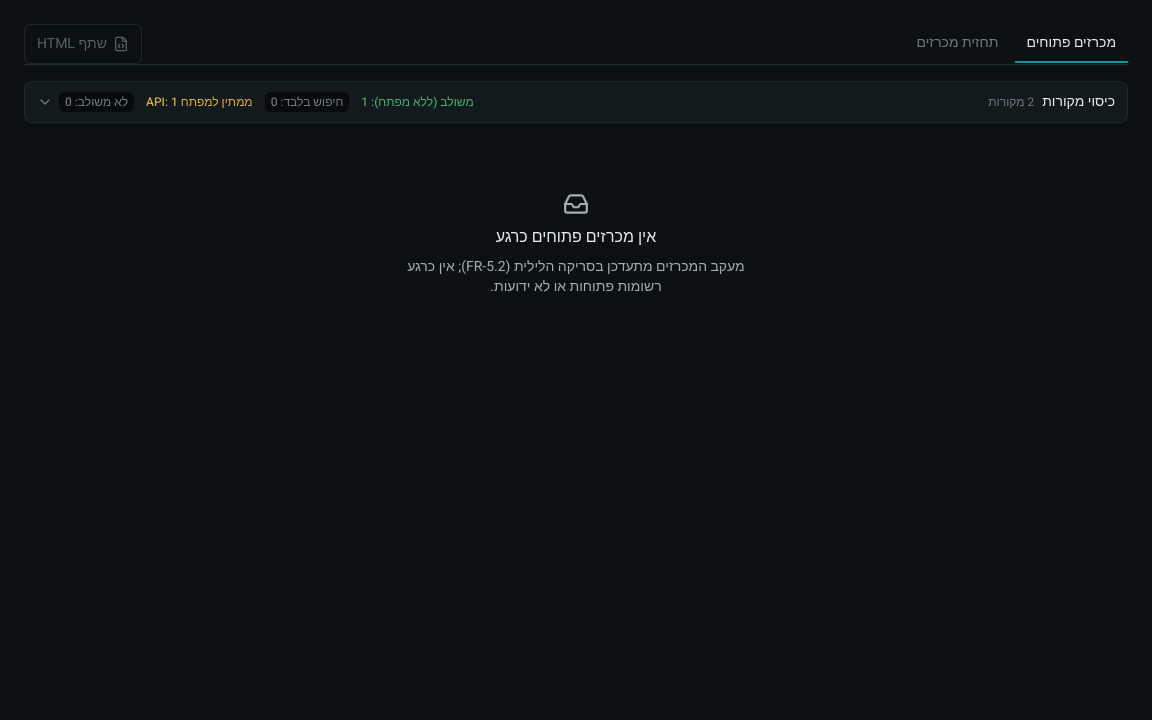
Scenario: TendersPage — source coverage panel › expands to show per-region source rows including the needs-key env var
What coordinates should you click on to do the following:
click the button "כיסוי מקורות"
I would click on:
 (1079, 102)
Its box is [25, 82, 1127, 122].
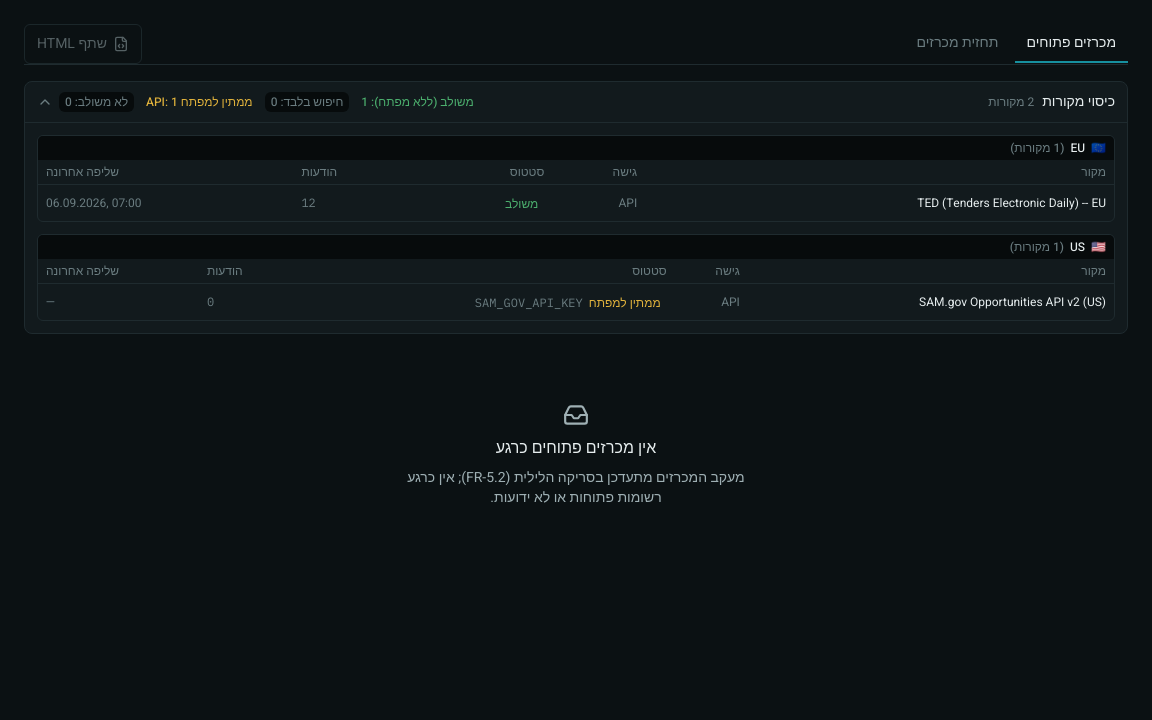
expect the text "TED (Tenders Electronic Daily) -- EU" is shown: met, box [917, 194, 1106, 212]
expect the text "SAM.gov Opportunities API v2 (US)" is shown: met, box [919, 293, 1106, 311]
expect the text "SAM_GOV_API_KEY" is shown: met, box [475, 295, 583, 310]
